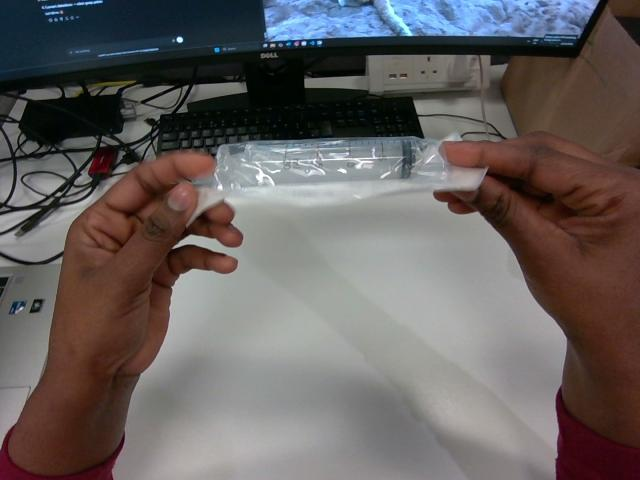syringe: (194, 137, 485, 213)
